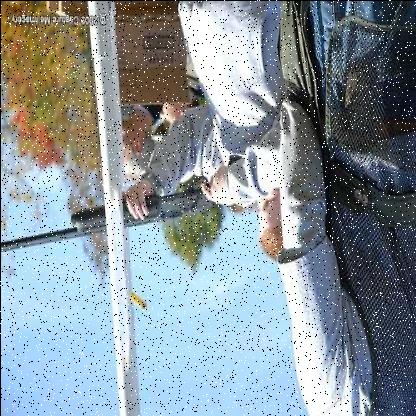rifle: (1, 121, 270, 278)
